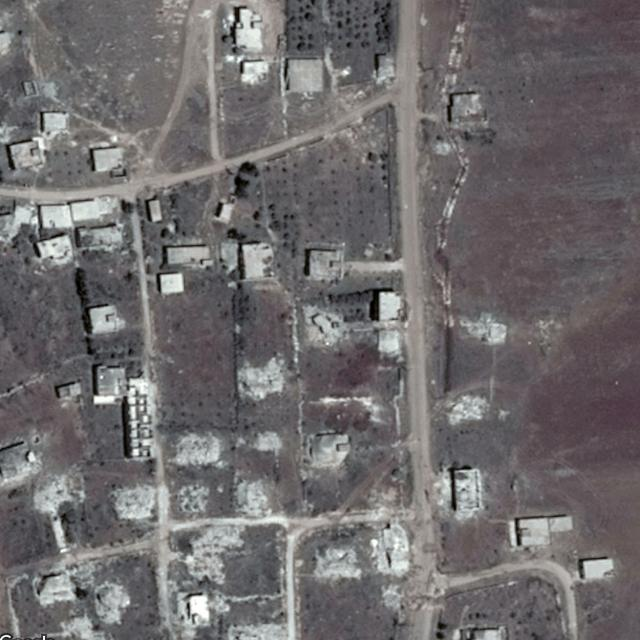damaged_building: (180, 524, 248, 586), (31, 464, 88, 516), (29, 562, 98, 601), (368, 519, 413, 577), (232, 356, 288, 400), (166, 432, 226, 467), (105, 480, 157, 520), (309, 544, 365, 580), (232, 470, 274, 518), (460, 312, 510, 346), (436, 394, 492, 424), (51, 613, 107, 640), (92, 583, 130, 622), (172, 481, 212, 518), (226, 622, 288, 640), (243, 430, 282, 450)
